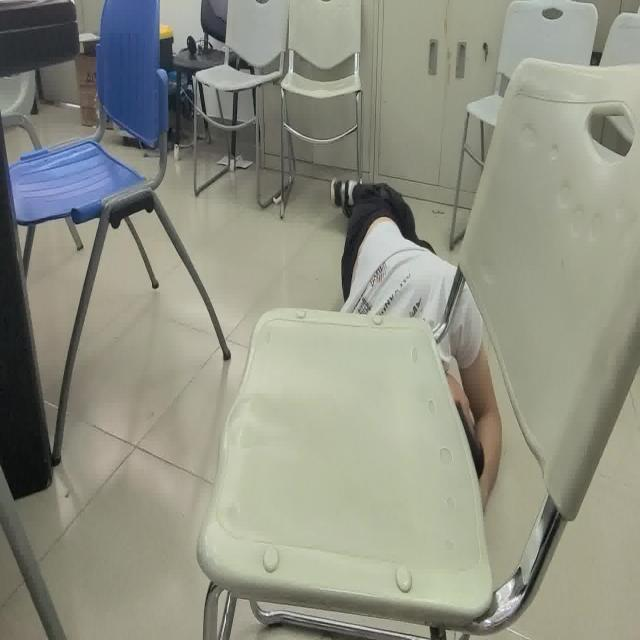fall: (329, 170, 504, 531)
